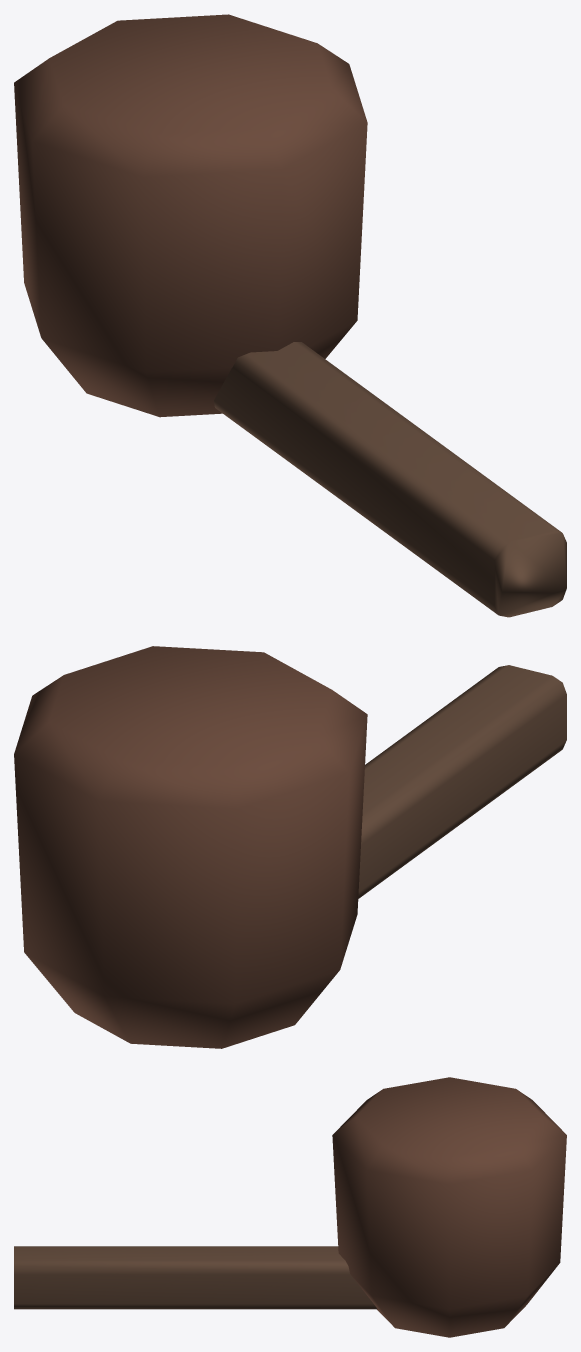
File: wear_pipe.glb
3 renders of one model, top to bottom at view 1: azimuth 30°, elevation 25°; view 2: azimuth 150°, elevation 25°; view 3: azimuth 270°, elevation 25°, orthographic. The views are drawn at different scales.
Parts seen in each view (by area): view 1: Item; view 2: Item; view 3: Item.
Boxes of the visible parts, <box> form: Item: <box>14,14,566,617</box>; Item: <box>14,646,566,1048</box>; Item: <box>14,1077,566,1337</box>.
Bounding box in the file's own units: 0.07 × 0.062 × 0.165.
